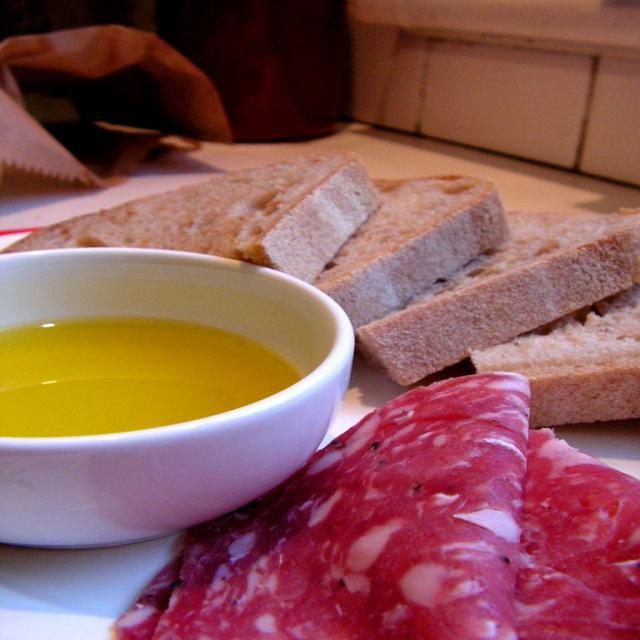Tea: (0, 315, 300, 436)
